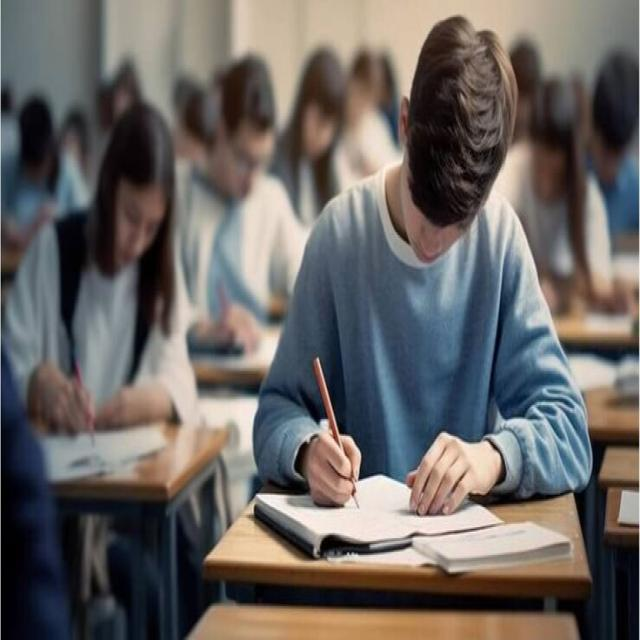9_cabeza_baja: (401, 16, 516, 264)
